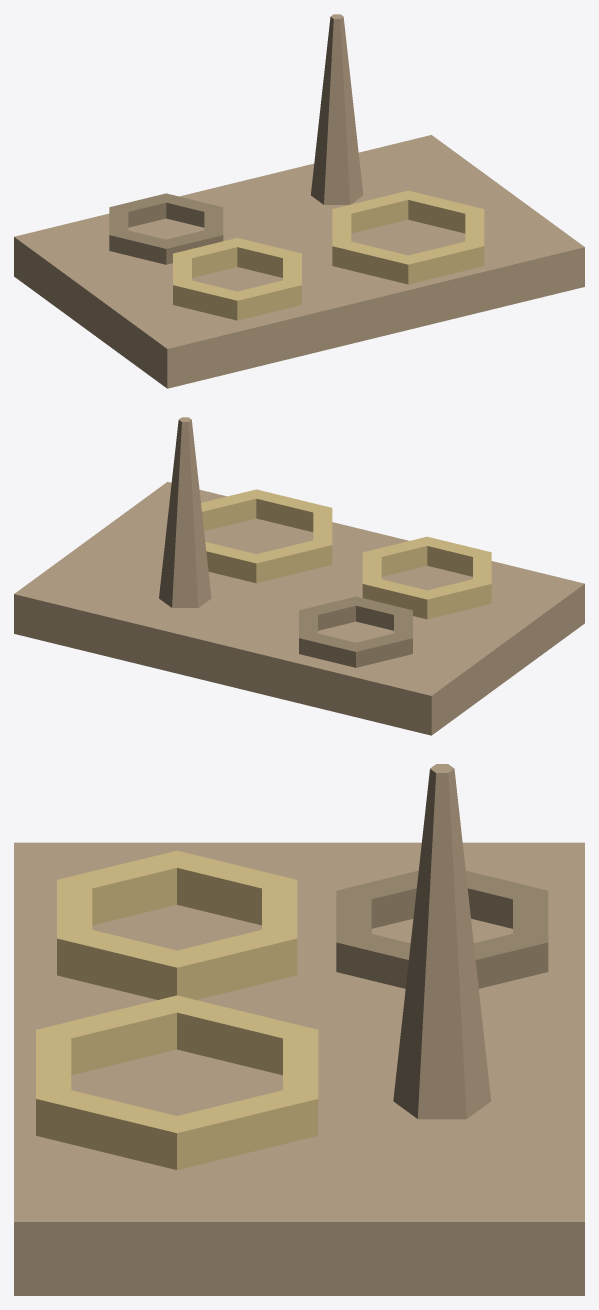
The model's file is prop-cringle-blank.fbx.
The picture shows the model from 3 angles, top to bottom: view 1: azimuth 30°, elevation 25°; view 2: azimuth 150°, elevation 25°; view 3: azimuth 270°, elevation 25°; orthographic projection. The views are drawn at different scales.
Parts seen in each view (by area): view 1: prop-cringle-blank; view 2: prop-cringle-blank; view 3: prop-cringle-blank.
Boxes of the visible parts, <box> form: prop-cringle-blank: <box>14,14,584,388</box>; prop-cringle-blank: <box>14,417,584,735</box>; prop-cringle-blank: <box>14,764,584,1295</box>.
Size of the model in its own units: 22 by 11 by 14.
